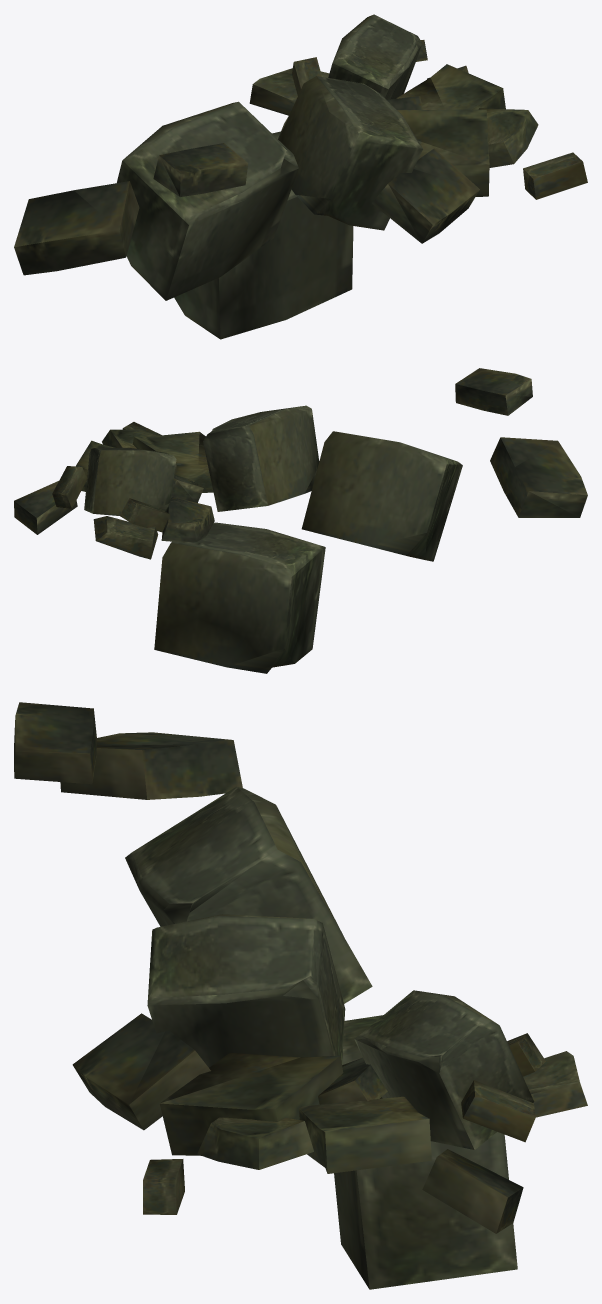
Rendered from fxmg_wall8.FBX.
3 views of the same model, one above another, from view 1: azimuth 30°, elevation 25°; view 2: azimuth 150°, elevation 25°; view 3: azimuth 270°, elevation 25° (orthographic). The views are drawn at different scales.
Visible parts, largest first — view 1: KLMSM_wall8; view 2: KLMSM_wall8; view 3: KLMSM_wall8.
Boxes of the visible parts, bbox=[...] form: KLMSM_wall8: bbox=[14, 14, 587, 339]; KLMSM_wall8: bbox=[14, 368, 587, 673]; KLMSM_wall8: bbox=[14, 702, 587, 1289].
Size of the model in its own units: 421 by 198 by 260.
